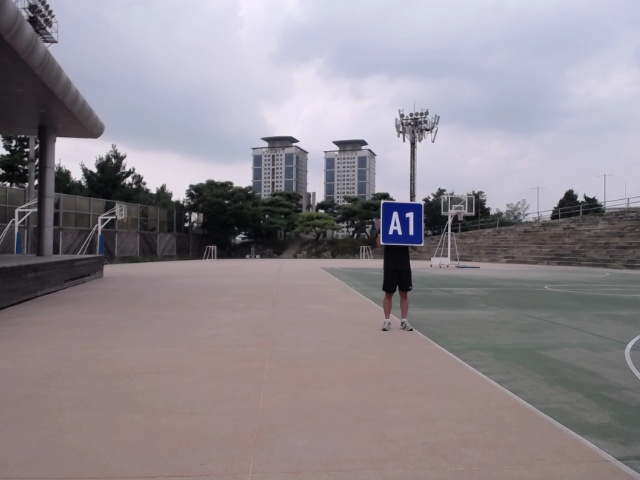delivery_a1: (380, 202, 424, 245)
